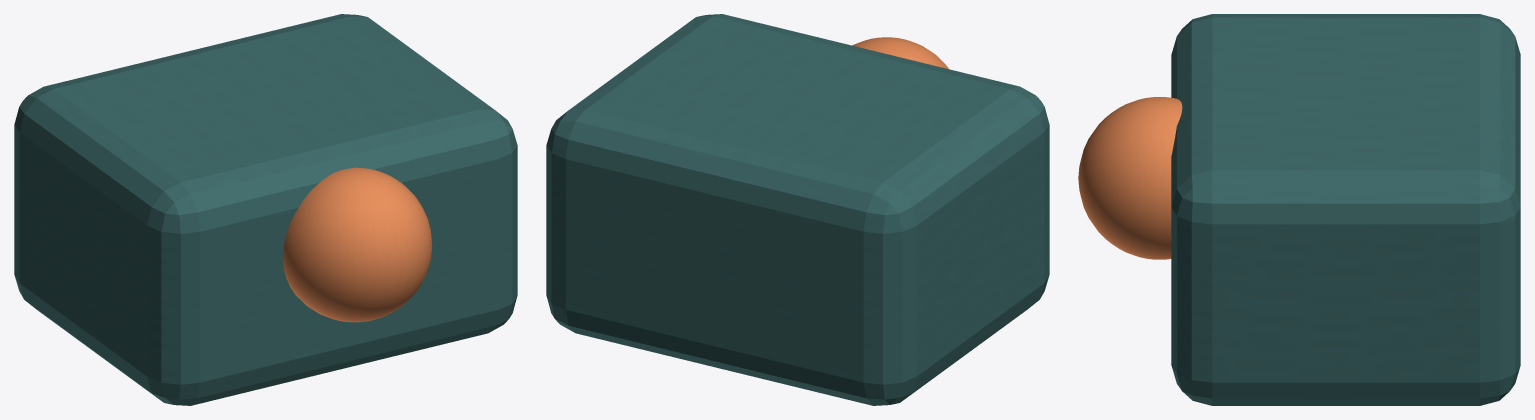
Rendered from sensor.glb.
3 renders of one model, left to right at view 1: azimuth 30°, elevation 25°; view 2: azimuth 150°, elevation 25°; view 3: azimuth 270°, elevation 25°, orthographic. The views are drawn at different scales.
Visible parts, largest first — view 1: Sensor_Case, Sensor_Lens; view 2: Sensor_Case, Sensor_Lens; view 3: Sensor_Case, Sensor_Lens.
Boxes of the visible parts, bbox=[...] form: Sensor_Case: bbox=[14, 14, 517, 405]; Sensor_Lens: bbox=[283, 167, 432, 322]; Sensor_Case: bbox=[546, 14, 1049, 405]; Sensor_Lens: bbox=[852, 37, 948, 68]; Sensor_Case: bbox=[1171, 14, 1520, 405]; Sensor_Lens: bbox=[1078, 97, 1182, 259].
Size of the model in its own units: 0.38 by 0.22 by 0.38.
2 materials, 2 textured.
